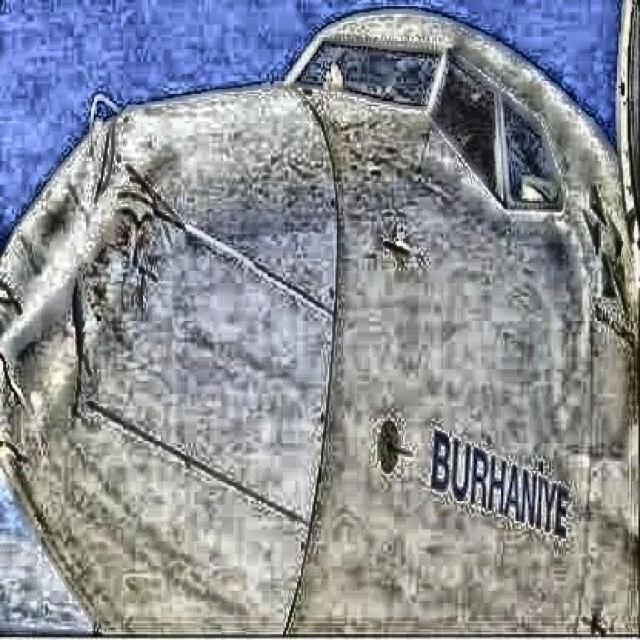dent: (3, 110, 188, 347)
